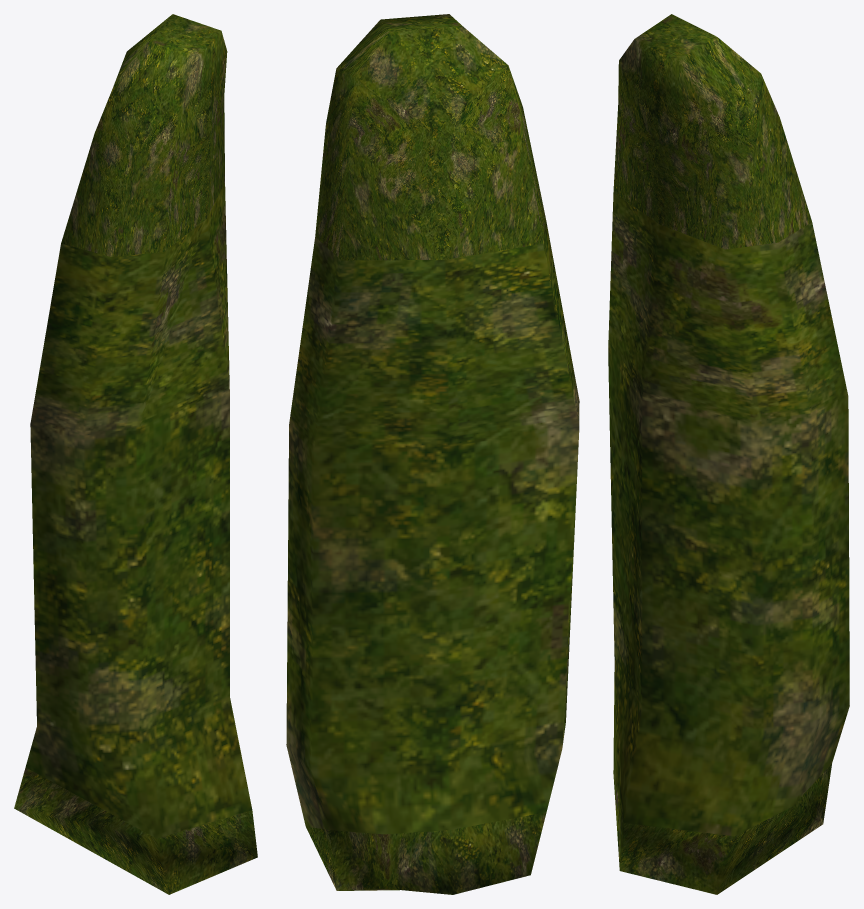
File: ANIMATEDINSTANCES_ROCK_BRIDGE03__AI.fbx
3 renders of one model, left to right at view 1: azimuth 30°, elevation 25°; view 2: azimuth 150°, elevation 25°; view 3: azimuth 270°, elevation 25°, orthographic. The views are drawn at different scales.
Visible parts, largest first — view 1: ANIMATEDINSTANCES_ROCK_BRIDGE03__AI; view 2: ANIMATEDINSTANCES_ROCK_BRIDGE03__AI; view 3: ANIMATEDINSTANCES_ROCK_BRIDGE03__AI.
Boxes of the visible parts, x1,y1,x2,y2 form: ANIMATEDINSTANCES_ROCK_BRIDGE03__AI: [14, 14, 257, 894]; ANIMATEDINSTANCES_ROCK_BRIDGE03__AI: [286, 14, 579, 894]; ANIMATEDINSTANCES_ROCK_BRIDGE03__AI: [608, 14, 849, 894].
Bounding box in the file's own units: 13633 × 47297 × 12429.
Materials: 1 (1 with a texture image).
